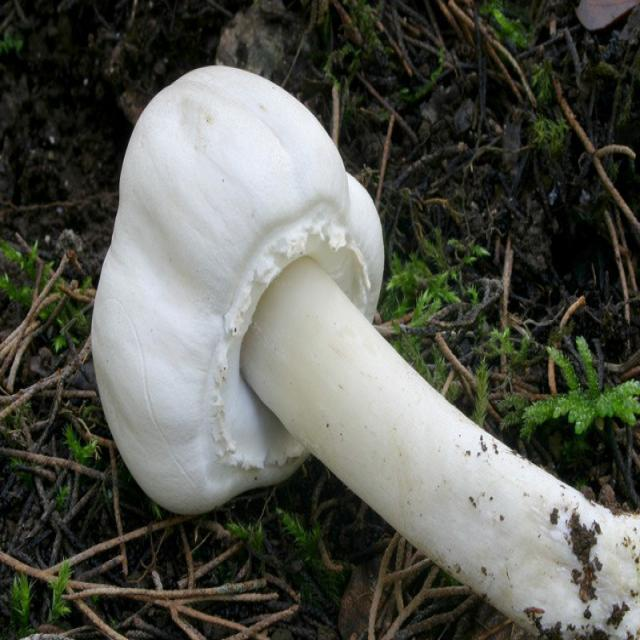Agaricus bisporus: (93, 61, 640, 640)
